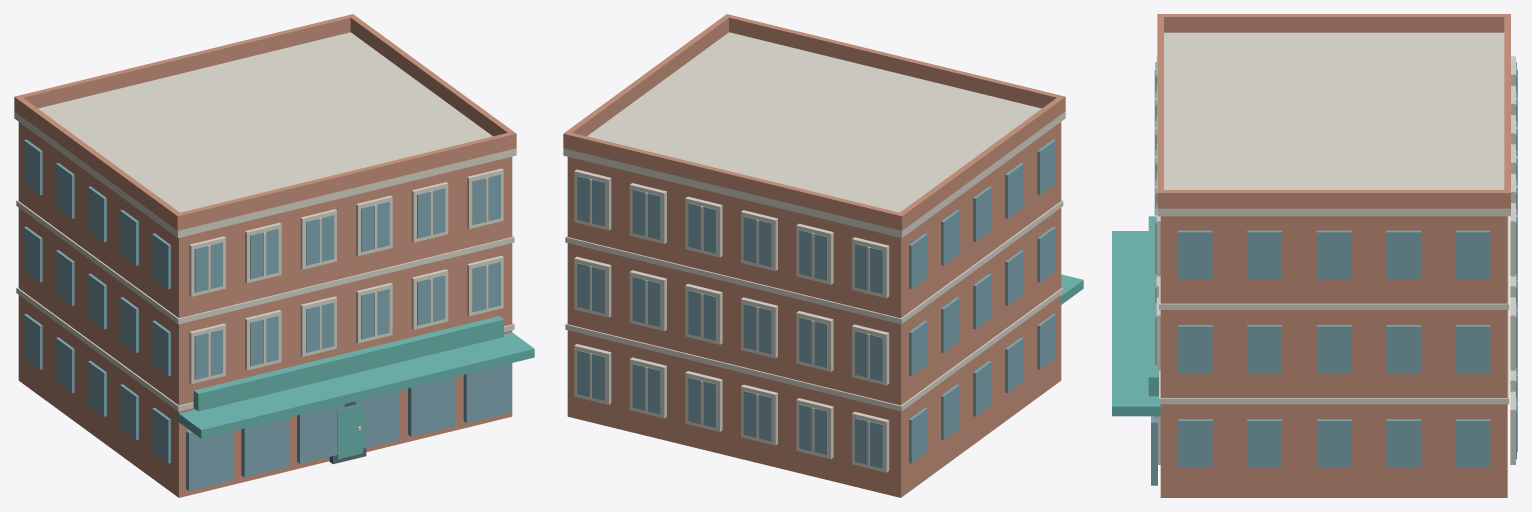
3 views of the same model, side by side, from view 1: azimuth 30°, elevation 25°; view 2: azimuth 150°, elevation 25°; view 3: azimuth 270°, elevation 25° (orthographic). The views are drawn at different scales.
Visible parts, largest first — view 1: department-store-brick, department-store-concrete, department-store-glass, department-store-accent; view 2: department-store-brick, department-store-concrete, department-store-glass; view 3: department-store-brick, department-store-concrete, department-store-glass, department-store-accent.
Part boxes in pixels (x1,y1,x2,y2): department-store-brick: (14, 14, 516, 497); department-store-concrete: (14, 32, 516, 430); department-store-glass: (24, 139, 511, 490); department-store-accent: (177, 316, 534, 459); department-store-brick: (563, 14, 1065, 497); department-store-concrete: (563, 32, 1065, 472); department-store-glass: (577, 139, 1055, 468); department-store-brick: (1157, 14, 1510, 497); department-store-concrete: (1154, 32, 1517, 464); department-store-glass: (1151, 62, 1516, 485); department-store-accent: (1112, 216, 1160, 416).
Bounding box in the file's own units: 12.2 × 9.75 × 11.7.
